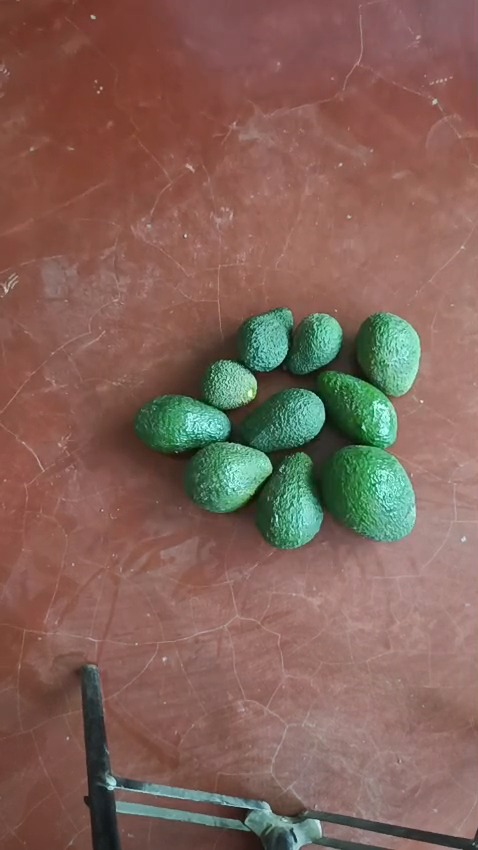Primera: (317, 443, 415, 540)
Segunda: (255, 452, 324, 548), (183, 440, 274, 512), (313, 370, 398, 447), (133, 393, 230, 454), (238, 388, 326, 452), (354, 311, 421, 395)
Tercera: (284, 312, 343, 377), (235, 307, 293, 373), (199, 357, 258, 411)
